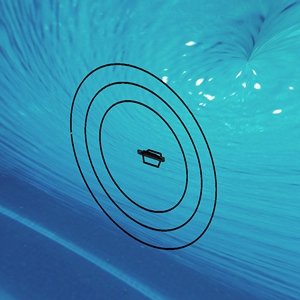submarine: (137, 147, 163, 168)
